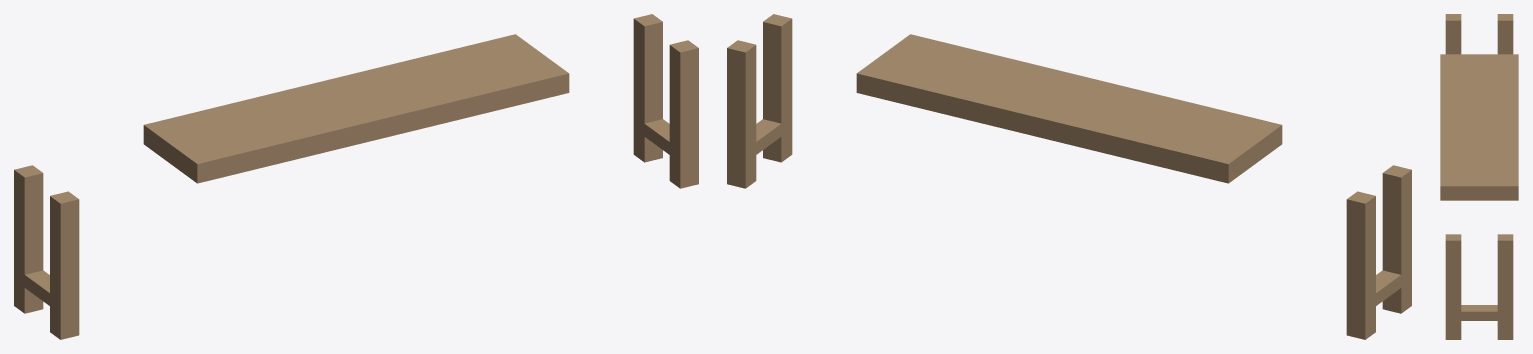
File: LongBench.fbx
3 renders of one model, left to right at view 1: azimuth 30°, elevation 25°; view 2: azimuth 150°, elevation 25°; view 3: azimuth 270°, elevation 25°, orthographic. The views are drawn at different scales.
Parts seen in each view (by area): view 1: LongBench; view 2: LongBench; view 3: LongBench.
Part boxes in pixels (box(x1,y1,x2,y2)): LongBench: box(14, 14, 698, 339); LongBench: box(727, 14, 1411, 339); LongBench: box(1440, 14, 1518, 339).
Bounding box in the file's own units: 206 × 45 × 30.
